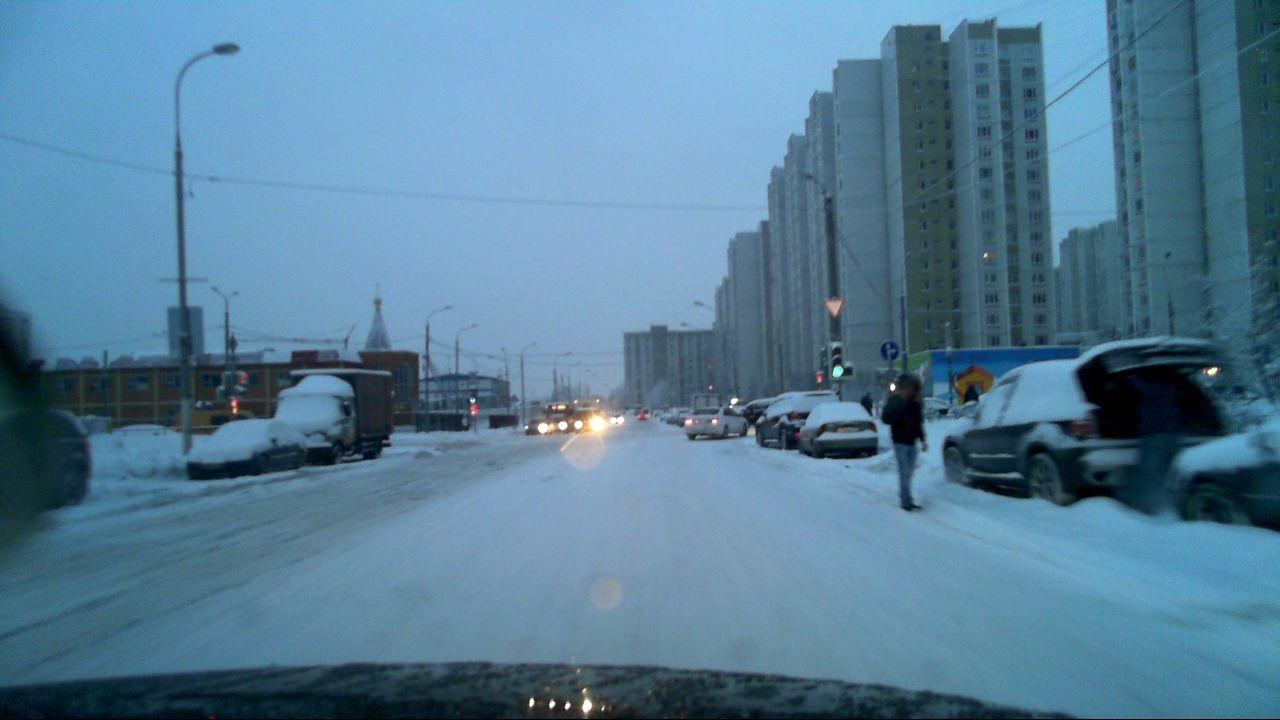road_sign: (822, 298, 846, 320), (879, 339, 900, 362)
traffic light: (831, 342, 854, 377)
